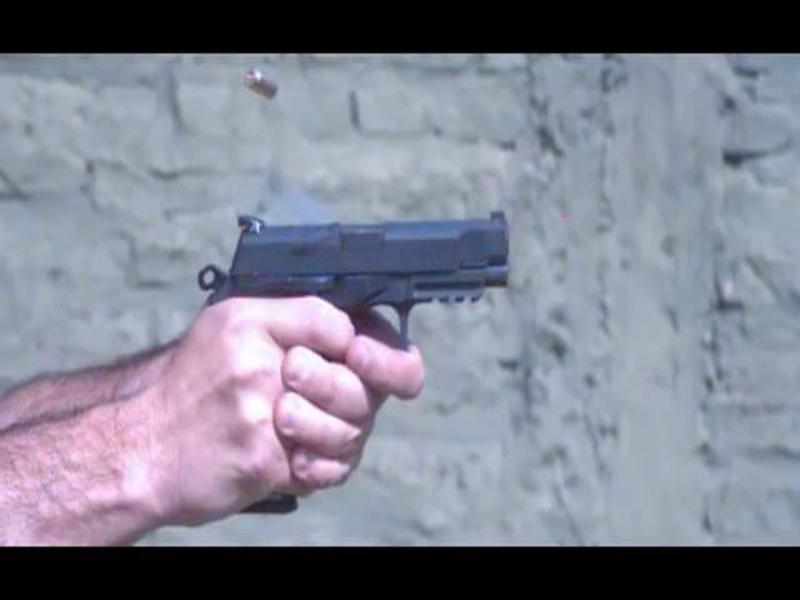Pistola: (166, 176, 517, 354)
